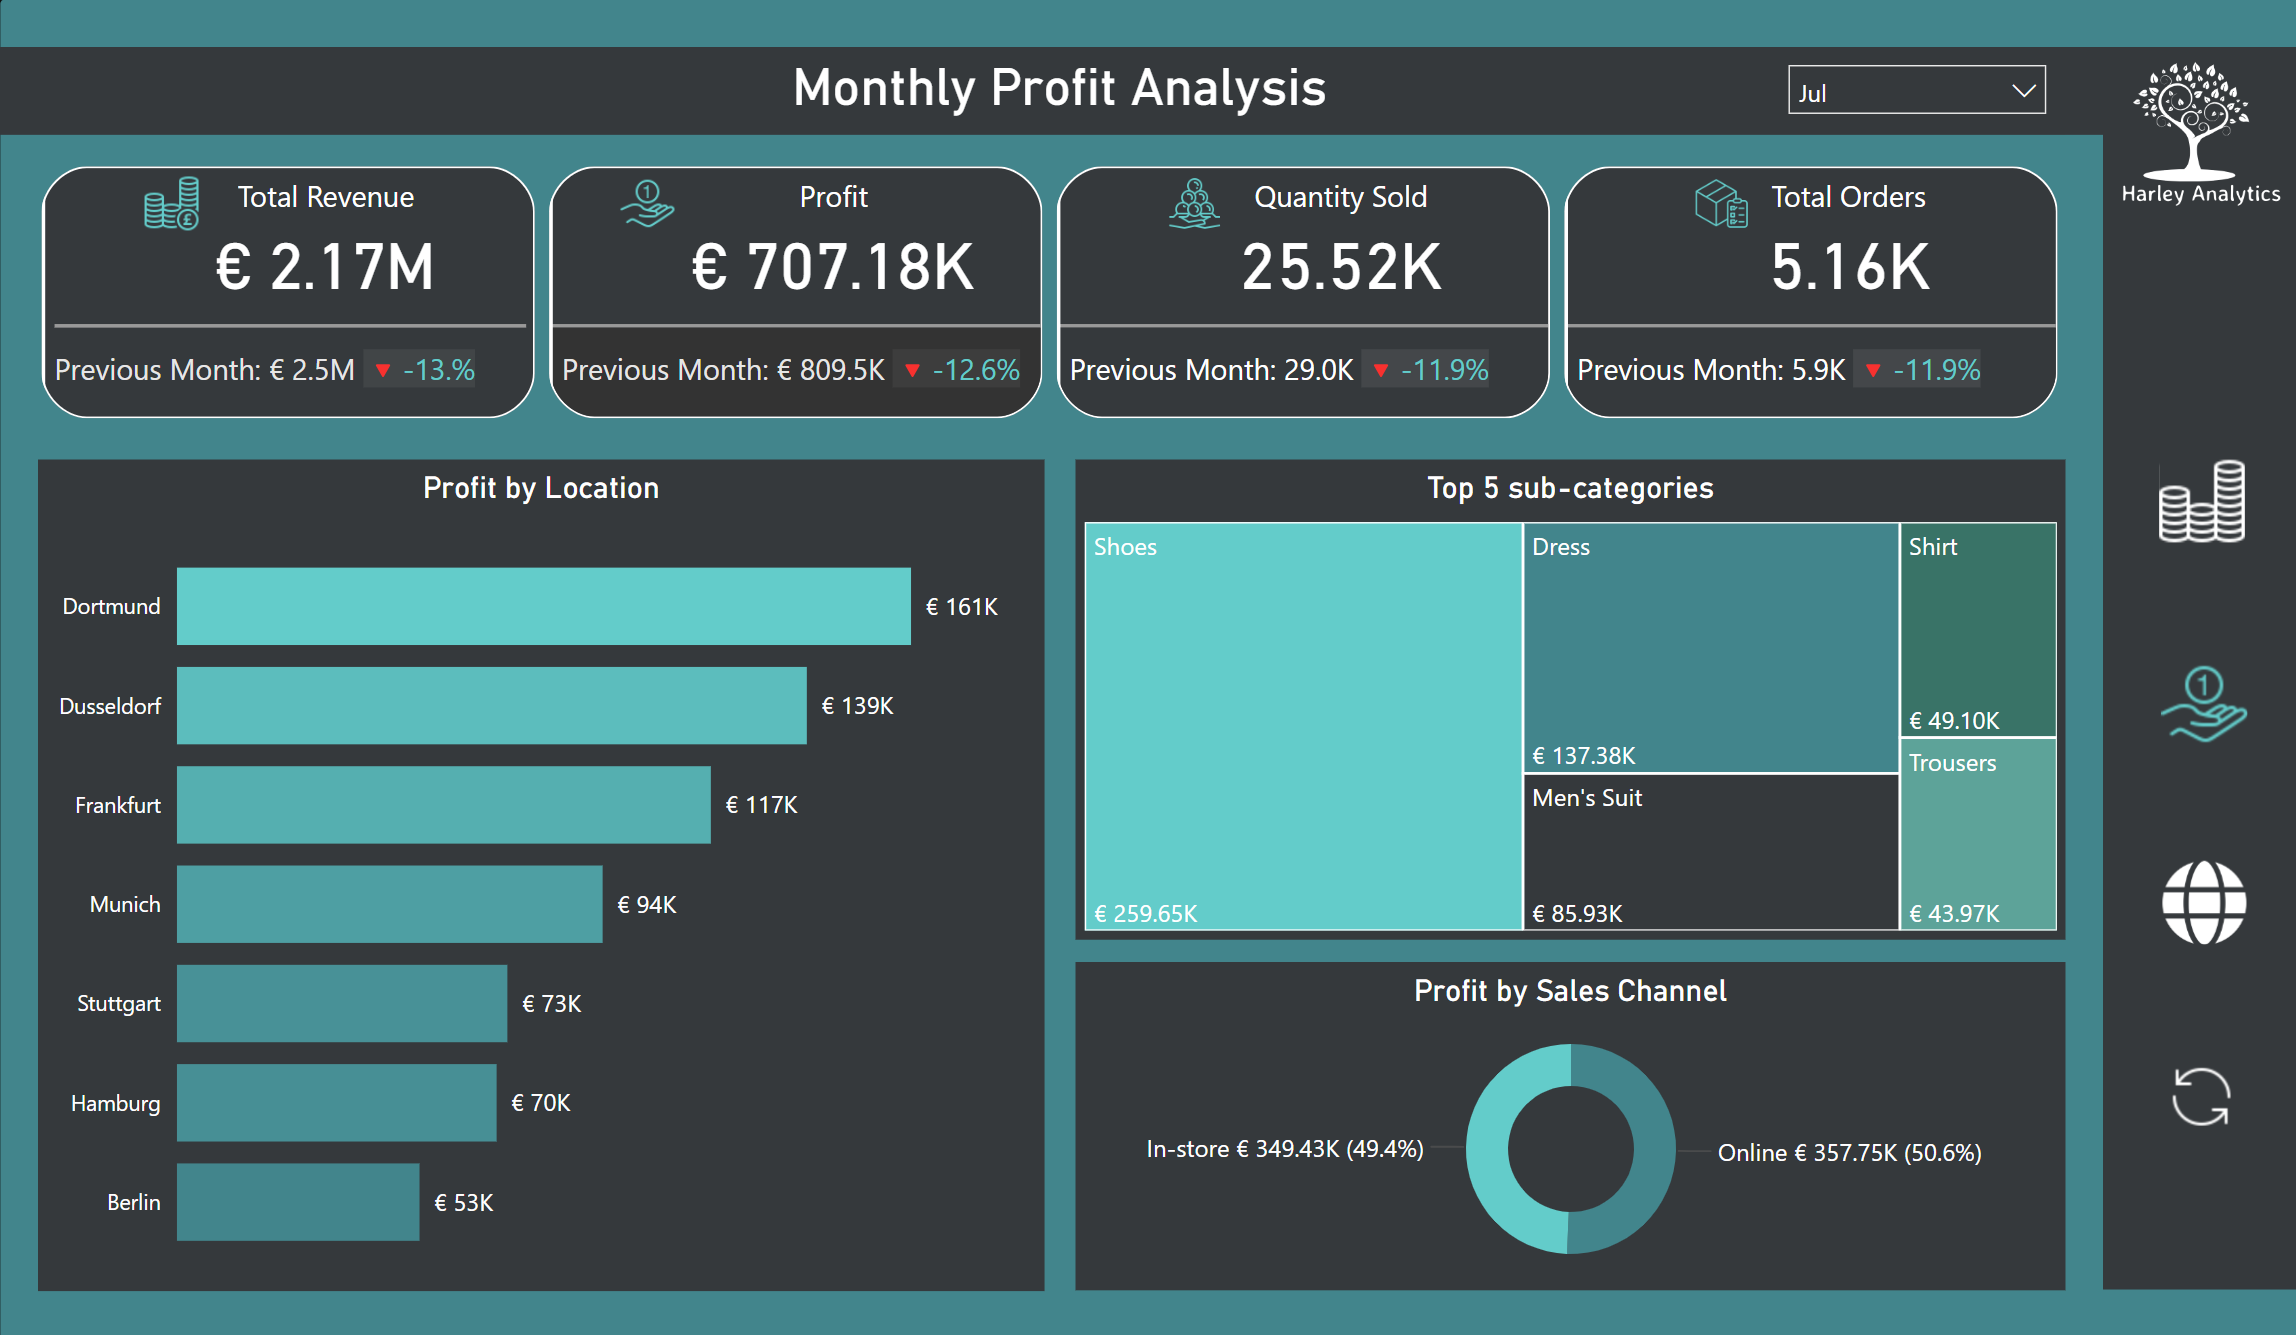

The dashboard page shown, as its layout file describes it:
{"tool":"powerbi","page":{"name":"Profit Analysis","canvas":[1280,720],"ordinal":1},"visuals":[{"type":"cardVisual","fields":{"Data":["DAX Measures.TotalRevenue","DAX Measures.Profit","DAX Measures.QuantitySold","DAX Measures.TotalOrders"]},"box":[21.7,61.3,1127.1,150.6],"z":0},{"type":"textbox","box":[0,0,1179.6,48.7],"z":1000},{"type":"barChart","title":"Profit by Location","fields":{"Category":["stores.Location"],"Y":["DAX Measures.Profit"]},"box":[21.7,228.5,559.1,462.1],"z":2000},{"type":"treemap","title":"Top 5 sub-categories","fields":{"Group":["product.SubCategory"],"Values":["DAX Measures.Profit"]},"box":[598.6,228.5,550.1,266.8],"z":3000},{"type":"shape","box":[1169.6,0,109.8,690.3],"z":4000},{"type":"image","box":[1169.6,0,109.8,96.1],"z":5000},{"type":"slicer","fields":{"Values":["DateTable.MonthName"]},"box":[985.4,0,163.4,48.5],"z":6000},{"type":"donutChart","title":"Profit by Sales Channel","fields":{"Category":["orders.SalesChannel"],"Y":["DAX Measures.Profit"]},"box":[598.6,508,550.1,182.5],"z":7000},{"type":"actionButton","box":[1169.6,216,109.8,73.6],"z":8000},{"type":"actionButton","box":[1170.2,327.5,109.8,74],"z":9000},{"type":"actionButton","box":[1170.2,439.5,109.8,72.7],"z":10000},{"type":"actionButton","box":[1169.6,550.5,109.8,58.7],"z":11000}]}

Visuals, with their boxes on the page's 1280x720 design canvas (x1, y1, x2, y2). These are canvas units, not pixel positions in the 2296x1335 screenshot, which may show the page scaled, cropped or inside an application window:
cardVisual - DAX Measures.TotalRevenue x DAX Measures.Profit: {"x1": 22, "y1": 61, "x2": 1149, "y2": 212}
textbox: {"x1": 0, "y1": 0, "x2": 1180, "y2": 49}
"Profit by Location" barChart: {"x1": 22, "y1": 228, "x2": 581, "y2": 691}
"Top 5 sub-categories" treemap: {"x1": 599, "y1": 228, "x2": 1149, "y2": 495}
shape: {"x1": 1170, "y1": 0, "x2": 1279, "y2": 690}
image: {"x1": 1170, "y1": 0, "x2": 1279, "y2": 96}
slicer - DateTable.MonthName: {"x1": 985, "y1": 0, "x2": 1149, "y2": 48}
"Profit by Sales Channel" donutChart: {"x1": 599, "y1": 508, "x2": 1149, "y2": 690}
actionButton: {"x1": 1170, "y1": 216, "x2": 1279, "y2": 290}
actionButton: {"x1": 1170, "y1": 328, "x2": 1280, "y2": 402}
actionButton: {"x1": 1170, "y1": 440, "x2": 1280, "y2": 512}
actionButton: {"x1": 1170, "y1": 550, "x2": 1279, "y2": 609}
